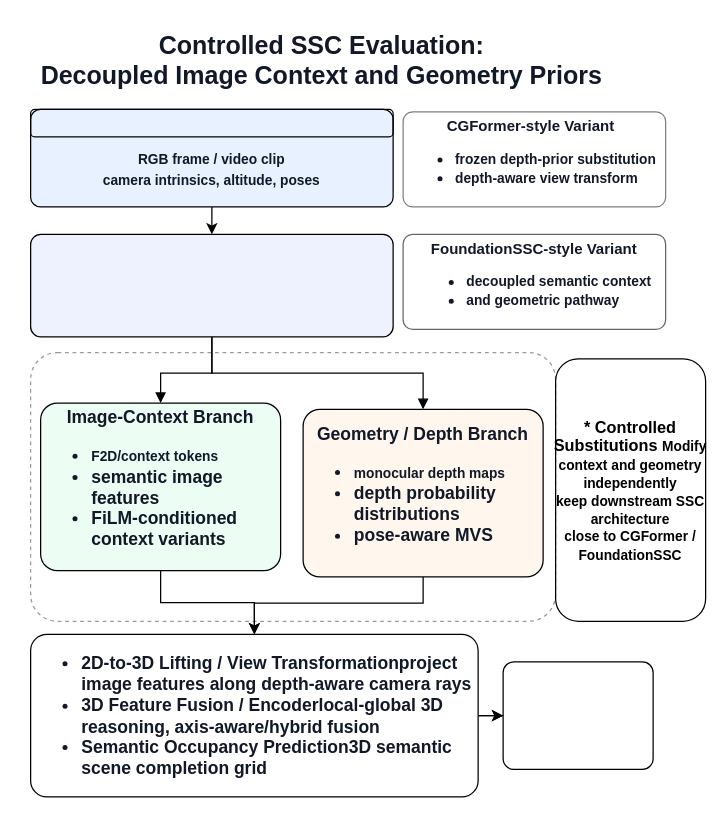
The diagram is 728 pixels wide and 819 high, and some of its shapes have lost their labels. Here are the shapes that lost their labels. From the top down, the centre of each, then its label:
the point at 211,122: Inputs
the point at 211,285: Frozen Visual Representation V-JEPA 2.1 image/video features or depth priors
the point at 577,715: Benchmark Outputs SC IoU, SSC mIoU per-class IoU, altitude/scene slices
